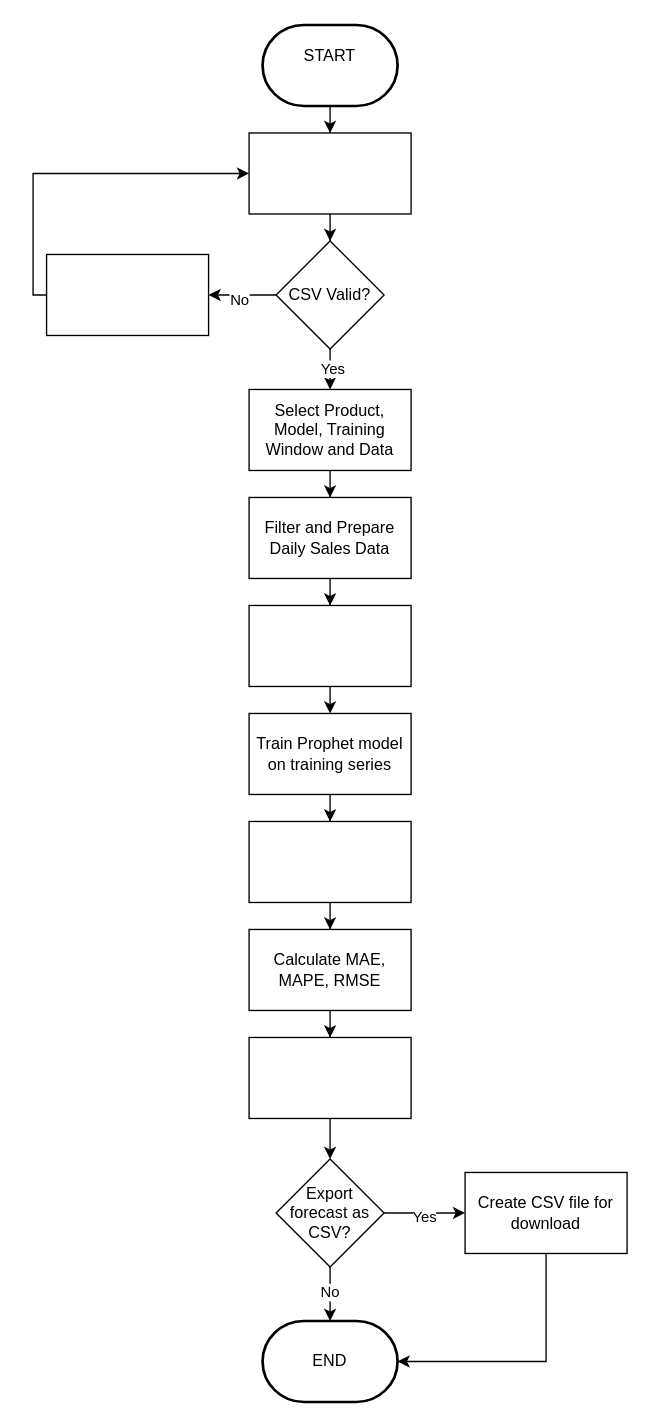
The diagram is 651 pixels wide and 1426 high, and some of its shapes have lost their labels. Here are the shapes that lost their labels. From the top down, the box of each, then its label:
(248, 132, 411, 214): Upload Sales CSV Data
(45, 253, 209, 335): Show Error Message
(248, 604, 411, 686): Split into training data and 28-day test window
(248, 820, 411, 902): Generate 28-day sales forecast
(248, 1036, 411, 1118): Display historical vs forecast chart and metrics
